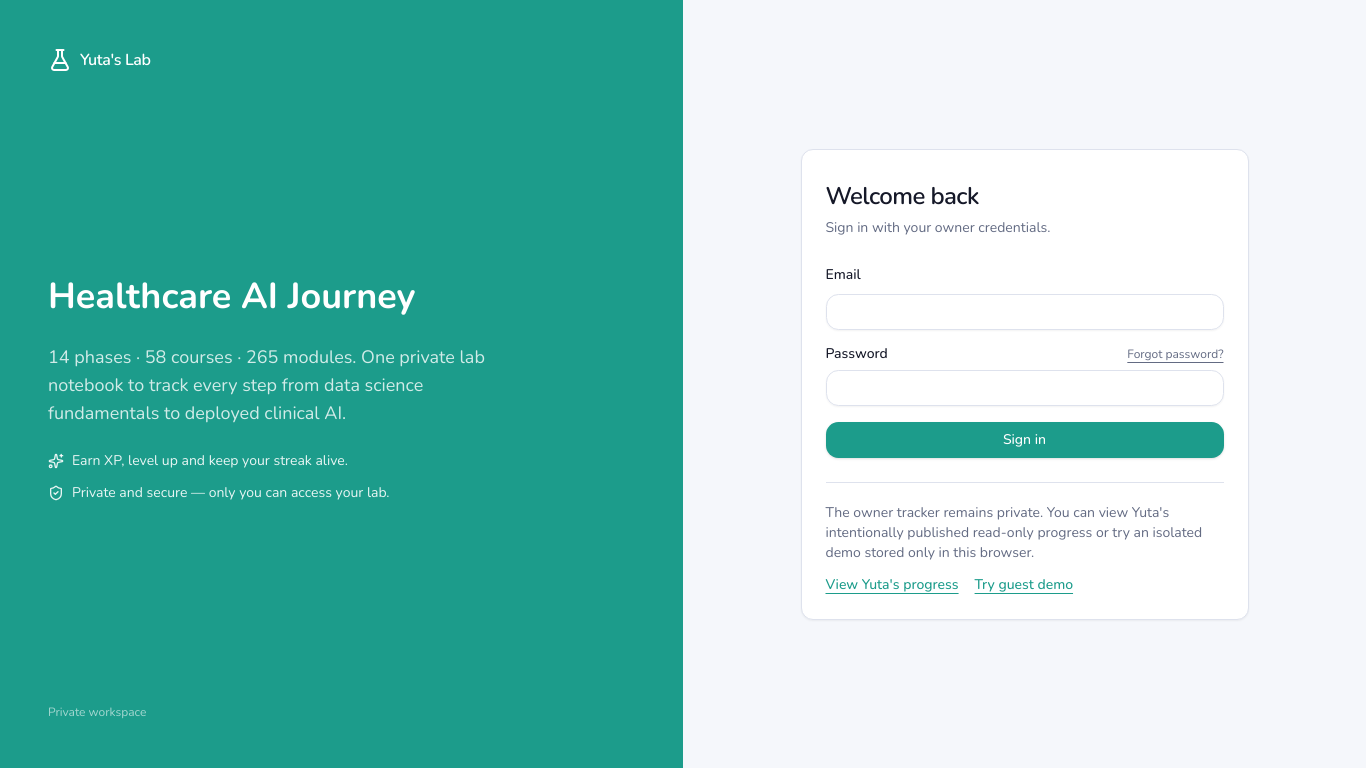
it: LoginPage › preserves the non-enumerating password reset response
The image size is (1366, 768).
Type "OWNER@EXAMPLE.COM" into the field labelled "Email".
click(1024, 312); type("OWNER@EXAMPLE.COM")  # box [826, 294, 1224, 330]
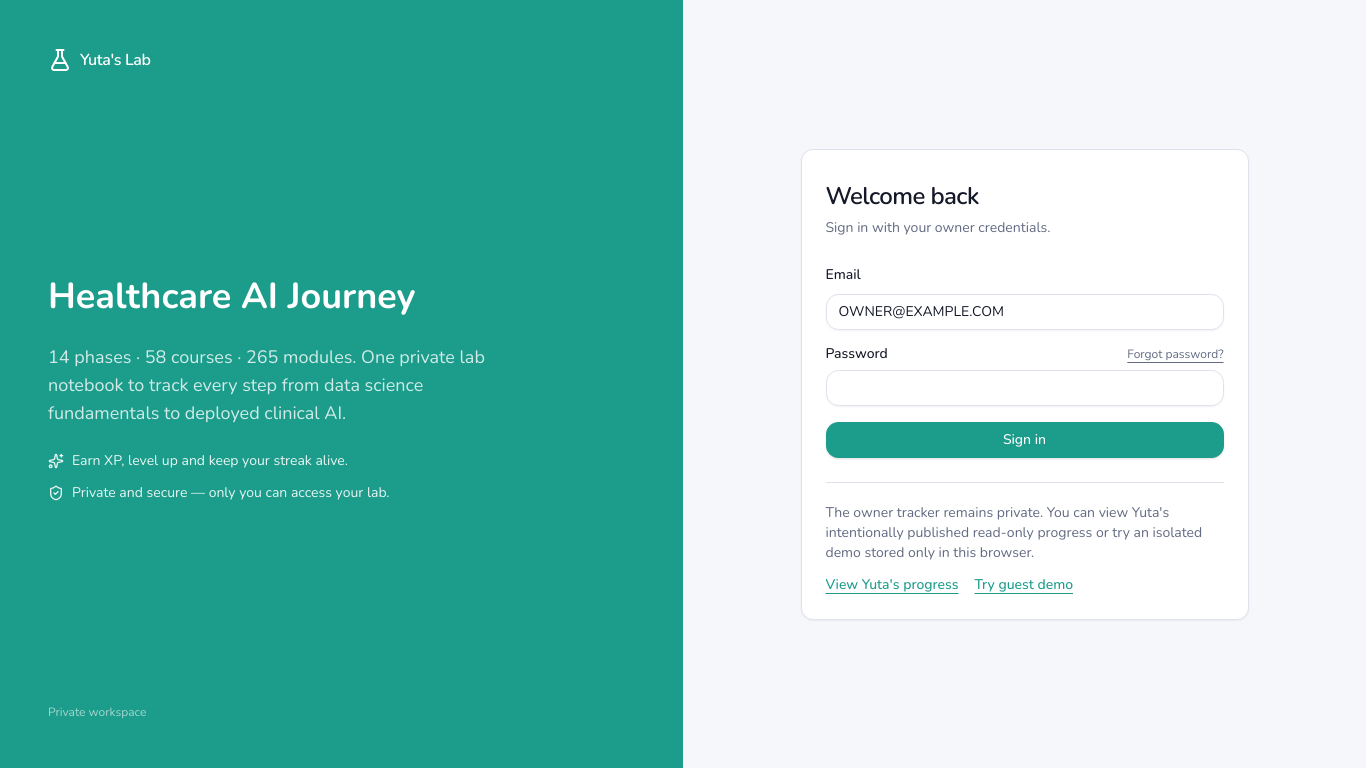
Click the button "Forgot password?".
click(1175, 354)  # box [1127, 346, 1224, 362]
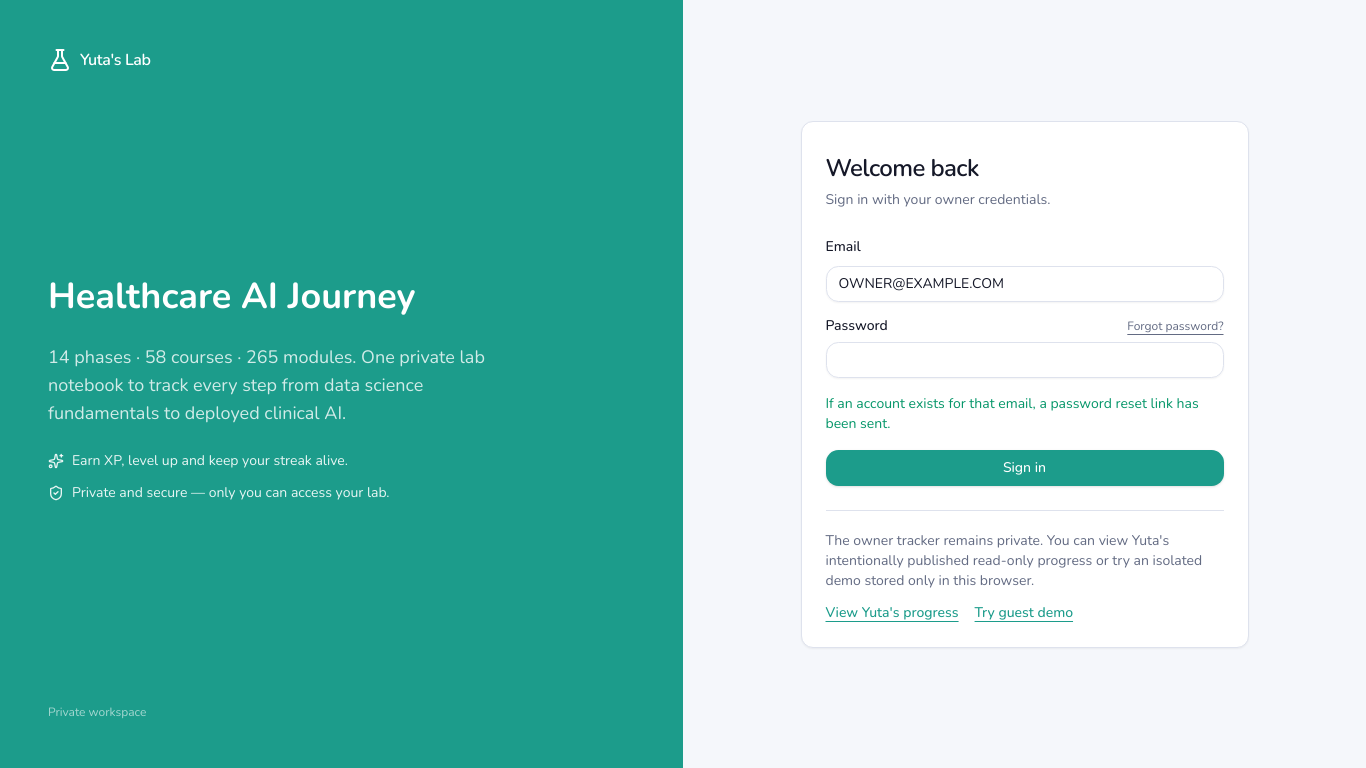
Check: the message reads "If an account exists for that email, a password reset link has been sent.", box [826, 394, 1199, 432]
